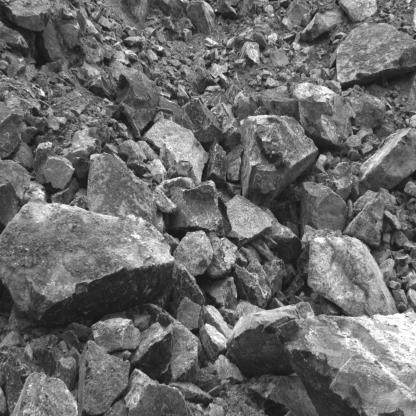stone: (0, 200, 172, 323), (292, 313, 416, 416), (307, 231, 401, 314), (240, 113, 317, 210), (228, 299, 313, 376), (87, 153, 158, 231), (336, 22, 416, 88), (290, 82, 356, 150), (78, 340, 133, 415), (358, 128, 416, 196), (146, 118, 203, 181), (113, 68, 160, 139), (247, 372, 320, 416), (125, 372, 193, 416), (10, 372, 78, 416), (171, 180, 222, 236), (299, 182, 350, 238), (129, 321, 175, 382), (0, 159, 30, 237), (346, 192, 386, 250), (206, 231, 251, 279), (226, 193, 273, 238), (33, 143, 75, 190), (91, 317, 142, 354), (173, 231, 213, 276), (186, 97, 222, 147), (234, 263, 272, 308), (150, 0, 197, 34), (172, 259, 203, 309), (300, 12, 346, 42), (0, 102, 21, 158), (191, 84, 241, 107), (186, 0, 216, 35), (200, 324, 228, 360), (205, 140, 226, 188), (191, 58, 220, 92), (177, 296, 204, 332), (195, 365, 225, 397), (51, 177, 82, 205), (215, 116, 242, 146), (117, 139, 147, 164), (90, 75, 116, 103), (226, 144, 243, 181), (287, 0, 311, 26), (210, 0, 241, 20), (226, 29, 255, 50), (238, 0, 263, 20), (240, 42, 260, 66), (210, 62, 228, 78)
